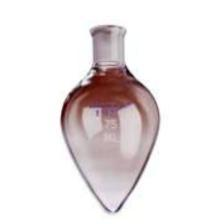Pear shaped flask: (48, 27, 167, 221)
